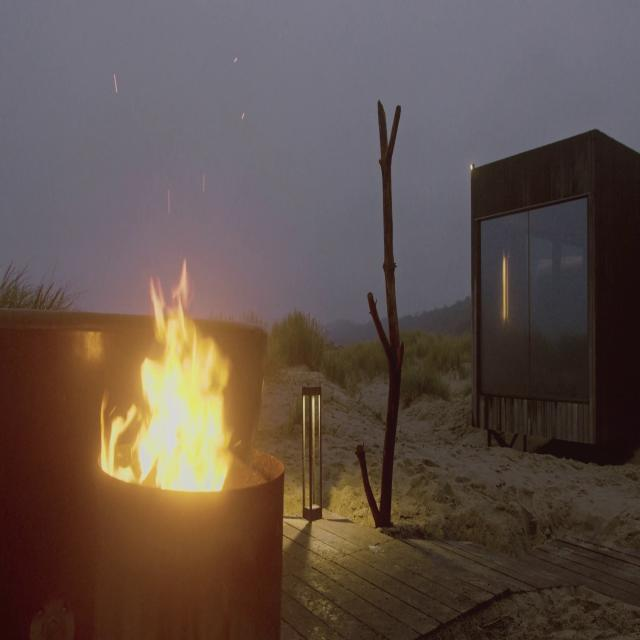Fire: (105, 262, 241, 490)
